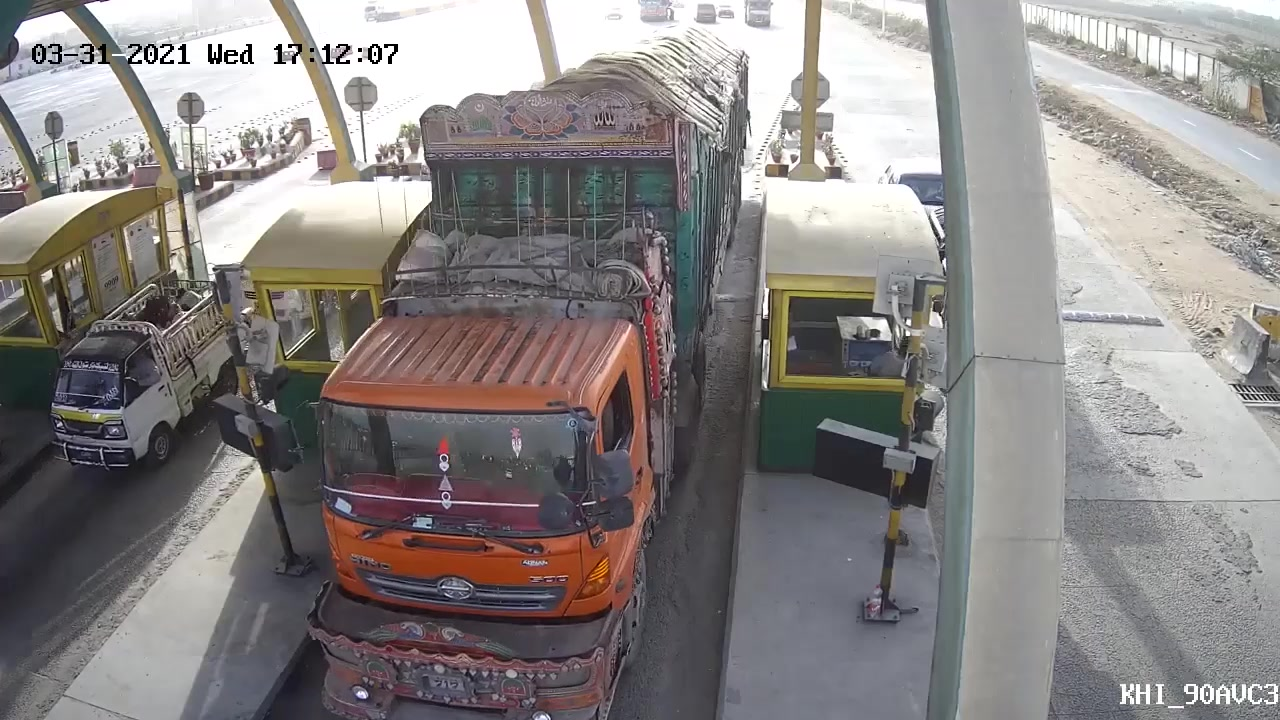F6: (294, 33, 752, 720)
